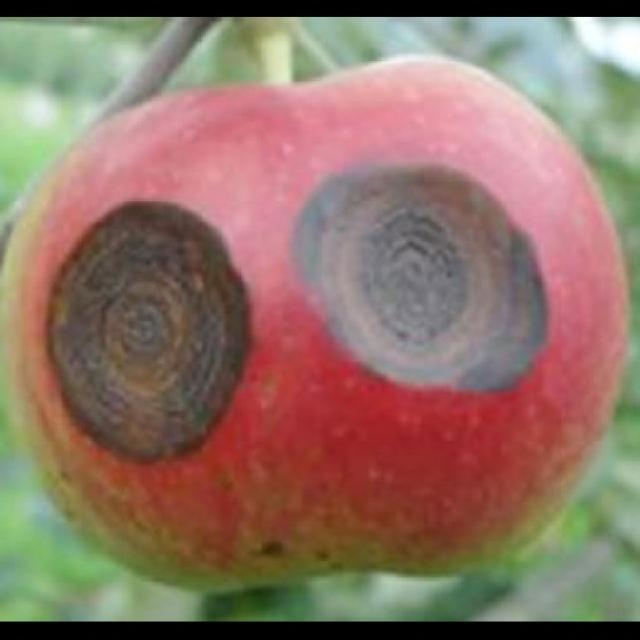Rotten Apple: (1, 54, 628, 598)
